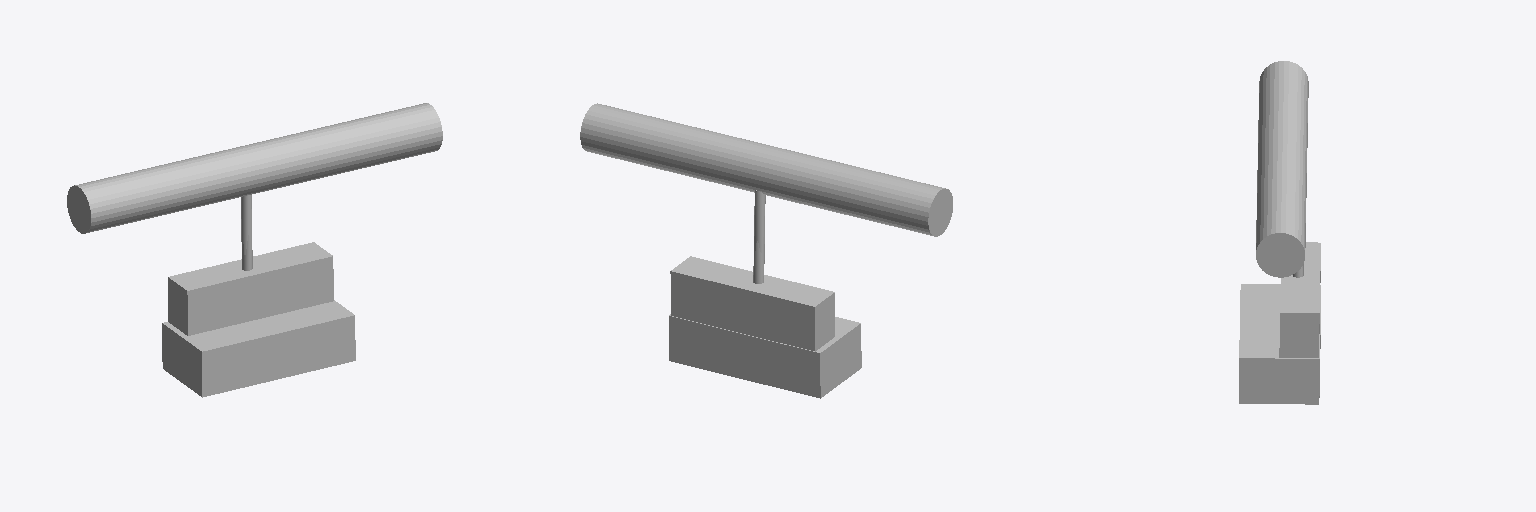
The model's file is seat.obj.
The picture shows the model from 3 angles: view 1: azimuth 30°, elevation 25°; view 2: azimuth 150°, elevation 25°; view 3: azimuth 270°, elevation 25°; orthographic projection.
Parts seen in each view (by area): view 1: Cube.002; view 2: Cube.002; view 3: Cube.002.
Part boxes in pixels (bbox=[...]): Cube.002: bbox=[67, 103, 442, 397]; Cube.002: bbox=[580, 103, 952, 398]; Cube.002: bbox=[1239, 61, 1320, 404].
Size of the model in its own units: 0.6091 by 0.3654 by 0.125.